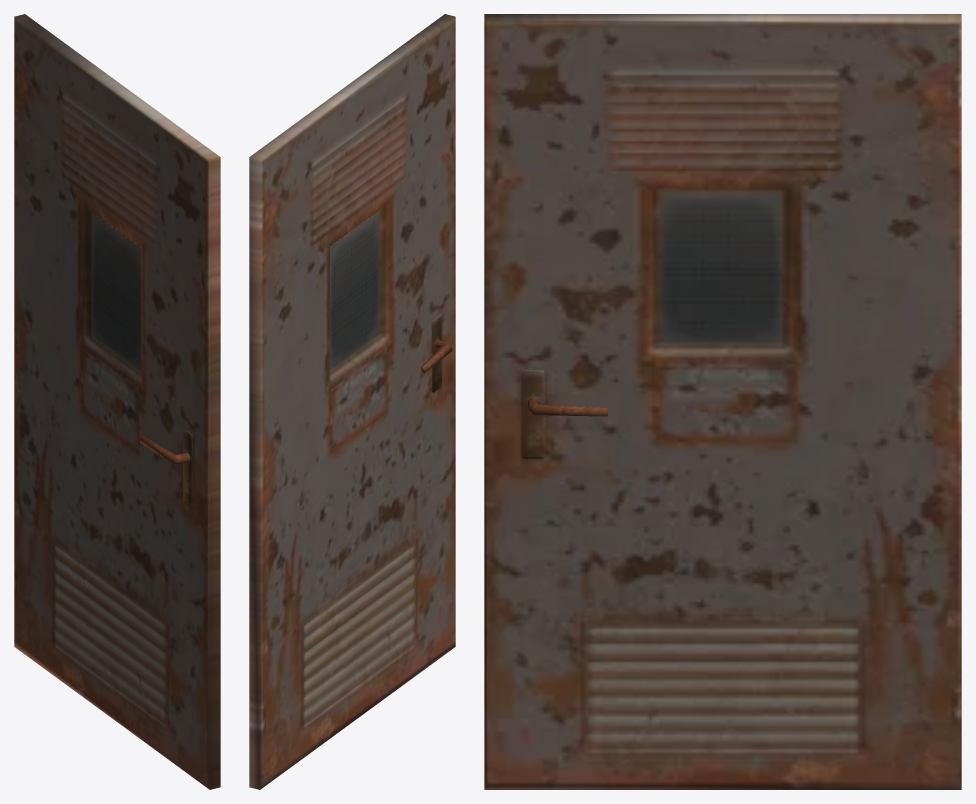
File: industrial_doors_a_d_static_glass_black.glb
3 views of the same model, side by side, from view 1: azimuth 30°, elevation 25°; view 2: azimuth 150°, elevation 25°; view 3: azimuth 270°, elevation 25° (orthographic). The views are drawn at different scales.
Parts seen in each view (by area): view 1: industrial_doors_a_d_static_glass_black; view 2: industrial_doors_a_d_static_glass_black; view 3: industrial_doors_a_d_static_glass_black.
Boxes of the visible parts, x1,y1,x2,y2 form: industrial_doors_a_d_static_glass_black: [14, 14, 220, 789]; industrial_doors_a_d_static_glass_black: [249, 14, 455, 789]; industrial_doors_a_d_static_glass_black: [484, 14, 961, 789].
Size of the model in its own units: 0.1787 by 2.14 by 1.2.
Materials: 1 (1 with a texture image).
